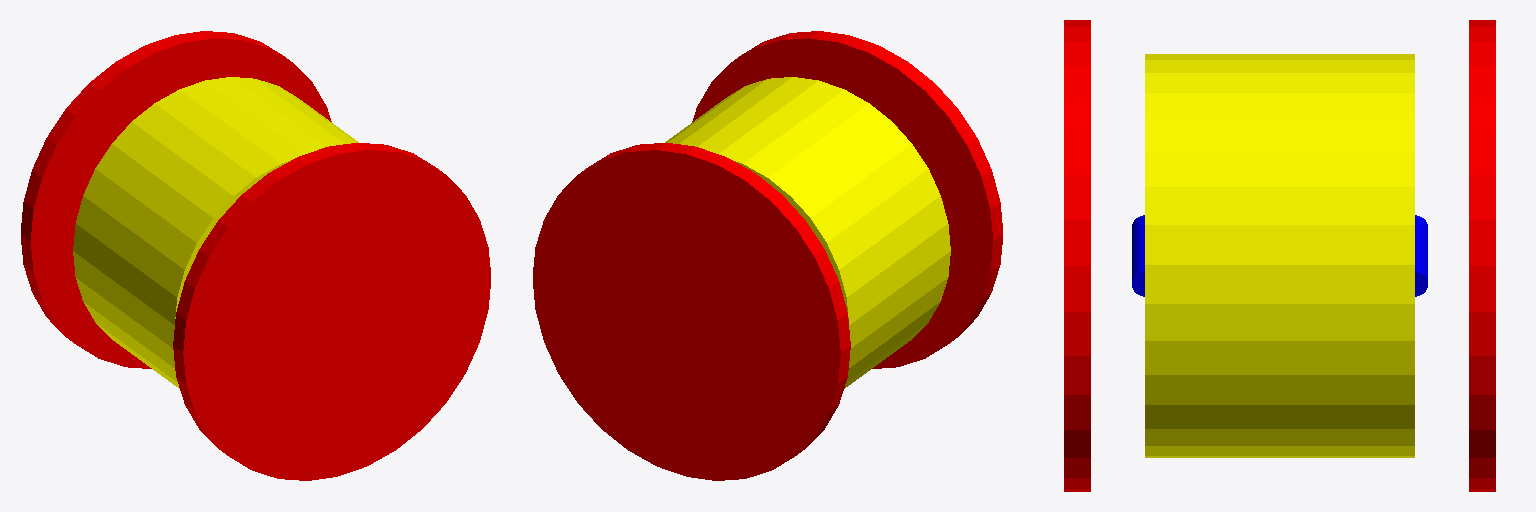
URDF robot description (panporter):
<?xml version="1.0"?>
<robot name="panporter" xmlns:xacro="http://www.ros.org/wiki/xacro">

<!-- * * * link definitions * * * -->
  <link name="base_link">
    <pose>0 0 0.35 0 0 0</pose>
    <visual>
      <geometry>
	      <cylinder length="0.4" radius="0.3"/>
      </geometry>
      <origin rpy="1.570796327 0 0" xyz="0 0 0"/>
      <material name="yellow">
        <color rgba="1 1 0 0.4"/>
      </material>
    </visual>
    <collision>
      <geometry>
	      <cylinder length="0.4" radius="0.3"/>
      </geometry>
      <origin rpy="1.570796327 0 0" xyz="0 0 0"/>
      <material name="yellow">
        <color rgba="1 1 0 0.4"/>
      </material>
    </collision>
    <inertial>
	    <mass value="10.0"/>
	    <inertia ixx="1.0" ixy="0.0" ixz="0.0" iyy="1.0" iyz="0.0" izz="1.0"/>
      <origin rpy="1.570796327 0 0" xyz="0 0 0"/>
    </inertial>
  </link>

  <!-- <gazebo reference="base_link">
    <kp> 1000000.0</kp>
    <kd> 0.0 </kd>
    <mu1> 10.0 </mu1>
    <mu2> 10.0 </mu2>
  </gazebo> -->

  <joint name="prism_blue_joint" type="prismatic">
    <parent link="base_link"/>
    <child link="prism_left_blue_link"/>
    <origin xyz="0 0.2 0"/>
    <axis xyz="1 0 0" />
    <limit effort="300" velocity="1.0" lower="-0.1" upper="0.1"/>
    <safety_controller k_position="20" k_velocity="20" soft_lower_limit="-0.15" soft_upper_limit="0.15"/>
    <dynamics damping="50" friction="1.0"/>
  </joint>

  <transmission name="prism_blue_joint">
    <type>transmission_interface/SimpleTransmission</type>
    <joint name="prism_blue_joint">
      <hardwareInterface>EffortJointInterface</hardwareInterface>
    </joint>
    <actuator name="prism_blue_motor">
      <mechanicalReduction>1</mechanicalReduction>
      <hardwareInterface>EffortJointInterface</hardwareInterface>
    </actuator>
  </transmission>

  <link name="prism_left_blue_link">
    <pose>0 0 0.35 0 0 0</pose>
    <visual>
      <geometry>
	      <cylinder length="0.2" radius="0.02"/>
      </geometry>
      <origin rpy="0 -1.570796327 0" xyz="0 0 0"/>
      <material name="blue">
        <color rgba="0 0 1 1"/>
      </material>
    </visual>
    <collision>
      <geometry>
	      <cylinder length="0.2" radius="0.02"/>
      </geometry>
      <origin rpy="0 -1.570796327 0" xyz="0 0 0"/>
    </collision>
    <inertial>
	    <mass value="0.1"/>
	    <inertia ixx="0.01" ixy="0.0" ixz="0.0" iyy="0.01" iyz="0.0" izz="0.01"/>
    </inertial>
  </link>

  <joint name="prism_right_blue_joint" type="fixed">
    <parent link="prism_left_blue_link"/>
    <child link="prism_right_blue_link"/>
    <origin xyz="0 -0.4 0"/>
  </joint>

    <link name="prism_right_blue_link">
    <pose>0 0 0.35 0 0 0</pose>
    <visual>
      <geometry>
	      <cylinder length="0.2" radius="0.02"/>
      </geometry>
      <origin rpy="0 1.570796327 0" xyz="0 0 0"/>
      <material name="blue">
        <color rgba="0 0 1 1"/>
      </material>
    </visual>
    <collision>
      <geometry>
	      <cylinder length="0.2" radius="0.02"/>
      </geometry>
      <origin rpy="0 -1.570796327 0" xyz="0 0 0"/>
    </collision>
    <inertial>
	    <mass value="0.1"/>
	    <inertia ixx="0.01" ixy="0.0" ixz="0.0" iyy="0.01" iyz="0.0" izz="0.01"/>
    </inertial>
  </link>

  <joint name="wheel_left_joint" type="continuous">
    <parent link="prism_left_blue_link"/>
    <child link="wheel_left_link"/>
    <origin xyz="0 0.1 0"/>
    <axis xyz="0 1 0" />
    <limit effort="300" velocity="10000"/>
    <dynamics damping="50" friction="1"/>
  </joint>

  <transmission name="wheel_left_trans">
    <type>transmission_interface/SimpleTransmission</type>
    <joint name="wheel_left_joint">
      <hardwareInterface>EffortJointInterface</hardwareInterface>
    </joint>
    <actuator name="wheel_left_motor">
      <mechanicalReduction>10</mechanicalReduction>
      <hardwareInterface>EffortJointInterface</hardwareInterface>
    </actuator>
  </transmission>

  <link name="wheel_left_link">
    <pose>0 0 0.35 0 0 0</pose>
    <visual>
      <geometry>
	      <cylinder length="0.04" radius="0.35"/>
      </geometry>
      <origin rpy="1.570796327 0 0" xyz="0 0 0"/>
      <material name="red">
        <color rgba="1 0 0 0.4"/>
      </material>
    </visual>
    <collision>
      <geometry>
	      <cylinder length="0.04" radius="0.35"/>
      </geometry>
      <origin rpy="1.570796327 0 0" xyz="0 0 0"/>
    </collision>
    <inertial>
	    <mass value="1"/>
	    <inertia ixx="0.5" ixy="0.0" ixz="0.0" iyy="0.5" iyz="0.0" izz="0.5"/>
    </inertial>
  </link>

  <!-- <gazebo reference="wheel_left_link">
    <material>Gazebo/Green</material>
  </gazebo> -->

  <joint name="wheel_right_joint" type="continuous">
    <parent link="prism_right_blue_link"/>
    <child link="wheel_right_link"/>
    <origin xyz="0 -0.1 0"/>
    <axis xyz="0 1 0" />
    <limit effort="300" velocity="10000"/> <!-- lower="-1.570796327" upper="1.570796327"/> -->
    <dynamics damping="50" friction="1"/>
  </joint>

  <transmission name="wheel_right_trans">
    <type>transmission_interface/SimpleTransmission</type>
    <joint name="wheel_right_joint">
      <hardwareInterface>EffortJointInterface</hardwareInterface>
    </joint>
    <actuator name="wheel_right_motor">
      <mechanicalReduction>10</mechanicalReduction>
      <hardwareInterface>EffortJointInterface</hardwareInterface>
    </actuator>
  </transmission>

  <link name="wheel_right_link">
    <pose>0 0 0.35 0 0 0</pose>
    <visual>
      <geometry>
	      <cylinder length="0.04" radius="0.35"/>
      </geometry>
      <origin rpy="1.570796327 0 0" xyz="0 0 0"/>
      <material name="red">
        <color rgba="1 0 0 0.4"/>
      </material>
    </visual>
    <collision>
      <geometry>
	      <cylinder length="0.04" radius="0.35"/>
      </geometry>
      <origin rpy="1.570796327 0 0" xyz="0 0 0"/>
    </collision>
    <inertial>
	    <mass value="1"/>
	    <inertia ixx="0.5" ixy="0.0" ixz="0.0" iyy="0.5" iyz="0.0" izz="0.5"/>
    </inertial>
  </link>

  <!-- <gazebo reference="wheel_left_link">
    <material>Gazebo/Red</material>
  </gazebo> -->

  <gazebo>
    <plugin filename="libgazebo_ros_diff_drive.so" name="differential_drive_controller">
      <alwaysOn>true</alwaysOn>
      <updateRate>100</updateRate>
      <leftJoint>wheel_left_joint</leftJoint>
      <rightJoint>wheel_right_joint</rightJoint>
      <torque>5</torque>
      <wheelSeparation>0.4</wheelSeparation>
      <wheelDiameter>0.7</wheelDiameter>
      <commandTopic>cmd_vel</commandTopic>
      <odometryTopic>odom</odometryTopic>
      <odometryFrame>odom</odometryFrame>
      <odometrySource>world</odometrySource>
      <robotBaseFrame>base_link</robotBaseFrame>
      <publishTf>true</publishTf>
      <publishOdomTF>true</publishOdomTF>
      <publishWheelTF>true</publishWheelTF>
      <publishWheelJointState>true</publishWheelJointState>
      <wheelAcceleration>0</wheelAcceleration>
      <wheelTorque>5</wheelTorque>
      <rosDebugLevel>na</rosDebugLevel>
      <legacyMode>true</legacyMode>
    </plugin>
  </gazebo>

  <gazebo>
    <plugin name="gazebo_ros_control" filename="libgazebo_ros_control.so">
      <robotNamespace>/panporter</robotNamespace>
      <robotSimType>gazebo_ros_control/DefaultRobotHWSim</robotSimType>
      <controlPeriod>0.002</controlPeriod>
      <legacyModeNS>false</legacyModeNS>
    </plugin>
    <plugin name='gazebo_ros_imu' filename='libhector_gazebo_ros_imu.so'>
      <alwaysOn>true</alwaysOn>
      <updateRate>200.0</updateRate>
      <bodyName>base_link</bodyName>
      <topicName>/imu_bosch/data_raw</topicName>
      <gaussianNoise>0.02</gaussianNoise>
      <xyzOffsets>0 0 0</xyzOffsets>
      <rpyOffsets>0 0 0</rpyOffsets>
    </plugin>
  </gazebo>

  <!-- base_link -->
	<gazebo reference="base_link">
		<material value="Gazebo/Grey"/>
	</gazebo>

  <!-- prism_left_blue_link -->
	<gazebo reference="prism_left_blue_link">
		<material value="Gazebo/Blue"/>
	</gazebo>

  <!-- prism_right_blue_link -->
	<gazebo reference="prism_right_blue_link">
		<material value="Gazebo/Blue"/>
	</gazebo>

  <!-- wheel_left_link -->
	<gazebo reference="wheel_left_link">
		<material value="Gazebo/Red"/>
	</gazebo>

  <!-- wheel_right_link -->
	<gazebo reference="wheel_right_link">
		<material value="Gazebo/Red"/>
	</gazebo>

</robot>

--- Render facts (derived) ---
Views: 3 orthographic renders of the robot side by side, from view 1: azimuth 30°, elevation 25°; view 2: azimuth 150°, elevation 25°; view 3: azimuth 270°, elevation 25°.
Robot: panporter — 5 links, 4 joints (2 continuous, 1 prismatic, 1 fixed); root link base_link; default pose: every joint at zero.
Visible links, largest first — view 1: wheel_right_link, base_link, wheel_left_link; view 2: wheel_left_link, base_link, wheel_right_link; view 3: base_link, wheel_left_link, wheel_right_link, prism_left_blue_link, prism_right_blue_link.
Boxes of the visible links, bbox=[...] form: wheel_right_link: bbox=[173, 143, 490, 480]; base_link: bbox=[73, 77, 358, 388]; wheel_left_link: bbox=[21, 31, 331, 368]; wheel_left_link: bbox=[533, 143, 850, 480]; base_link: bbox=[665, 77, 950, 388]; wheel_right_link: bbox=[692, 31, 1002, 368]; base_link: bbox=[1145, 54, 1414, 457]; wheel_left_link: bbox=[1469, 20, 1495, 491]; wheel_right_link: bbox=[1064, 20, 1090, 491]; prism_left_blue_link: bbox=[1415, 215, 1427, 296]; prism_right_blue_link: bbox=[1132, 215, 1144, 296].
Size in the robot's own frame: 0.7 by 0.64 by 0.7 metres.
Geometry: primitives only (box / cylinder / sphere), no mesh files.